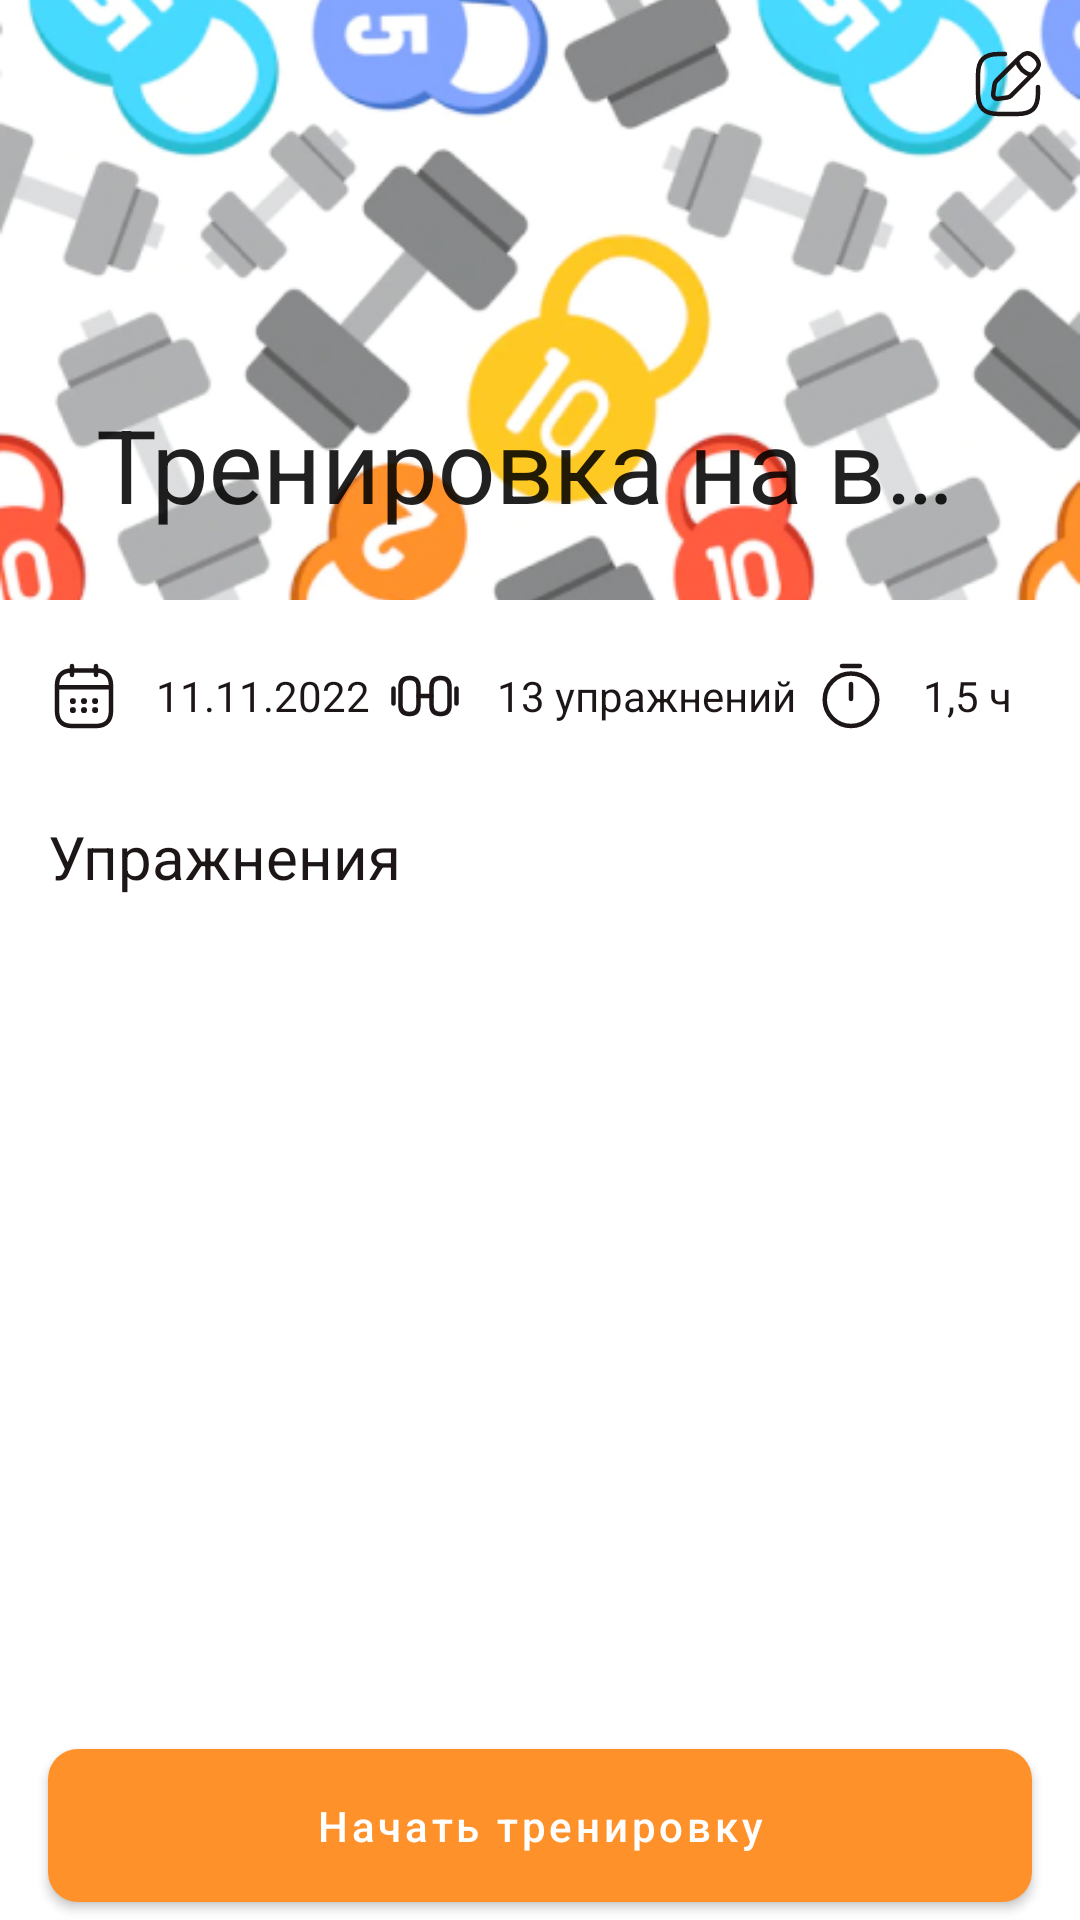

Screen size 1080px×1920px. Icon name, then its center in pixels as (x=x, y=y):
icon calendar: (x=84, y=696)
icon gym: (x=425, y=696)
icon timer: (x=851, y=696)
